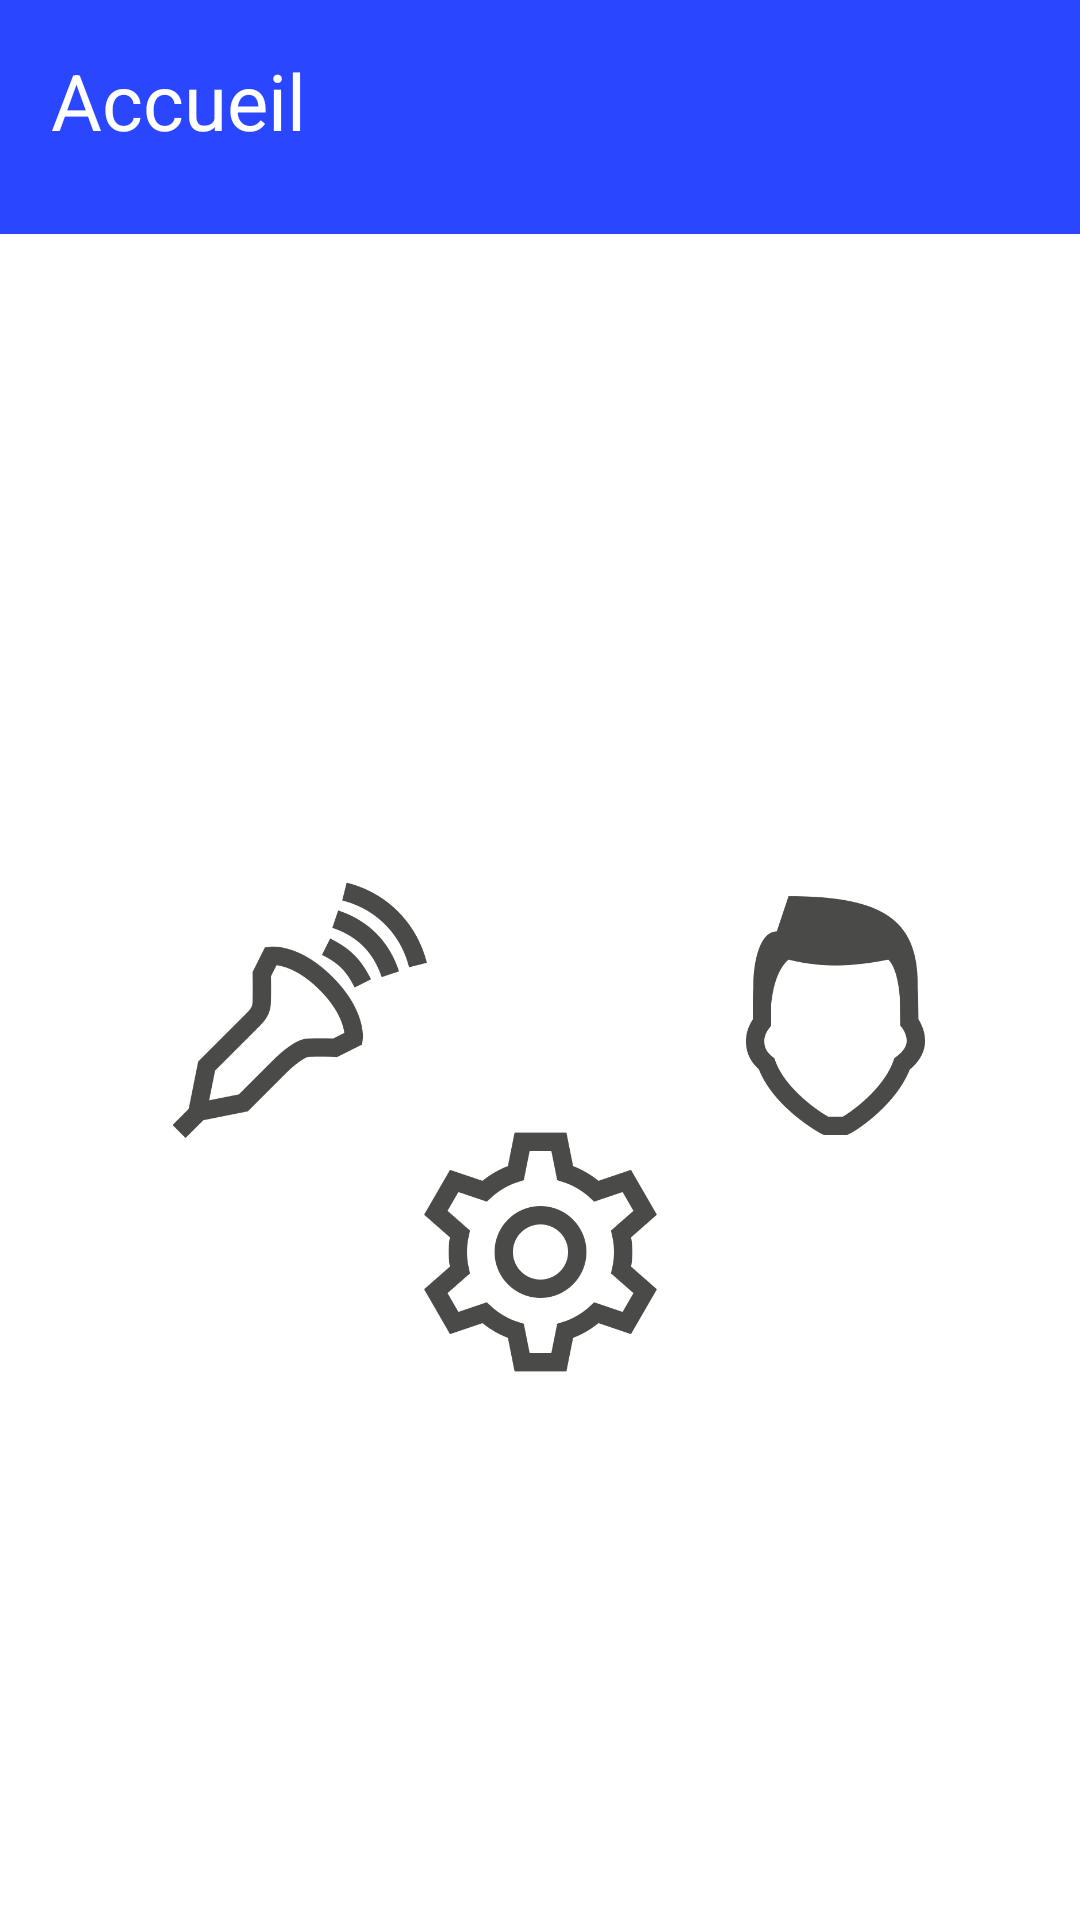

Where to tap for icons on this 1080 x 1920 app screen, as [x,y]:
head: [835,1015]
scan: [300,1010]
settings: [540,1252]
